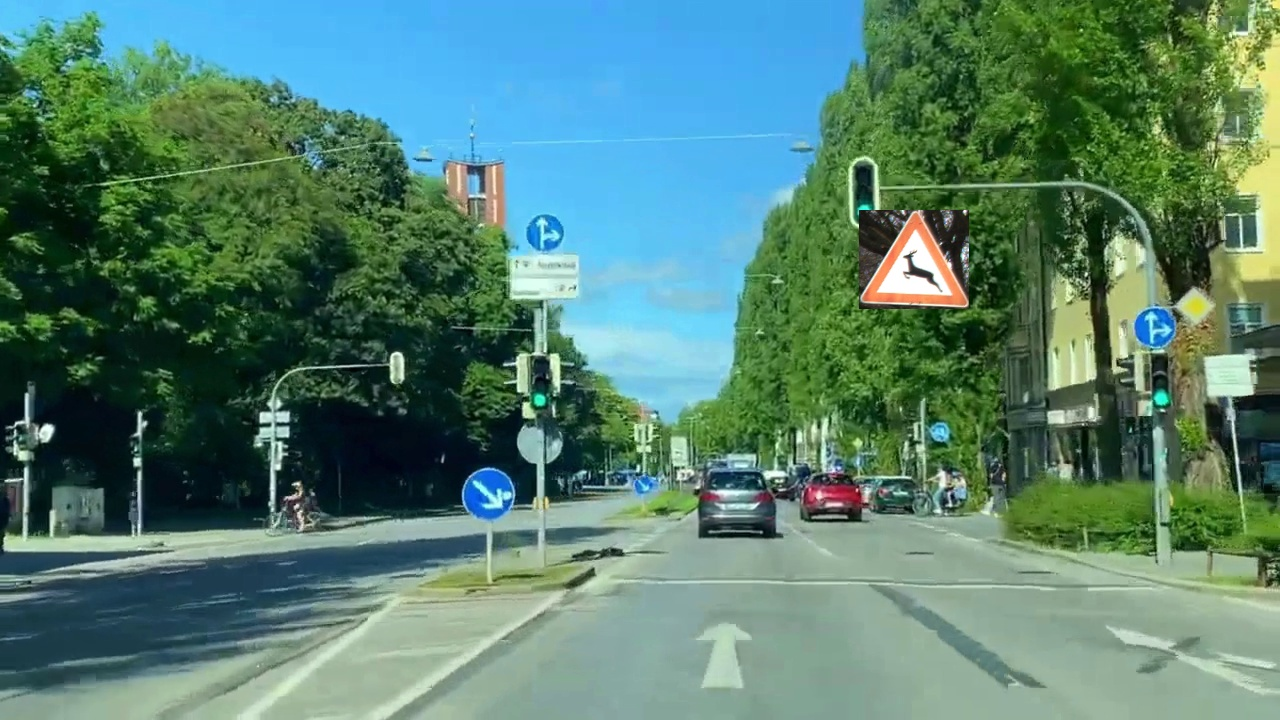Wild animals: (859, 210, 969, 309)
